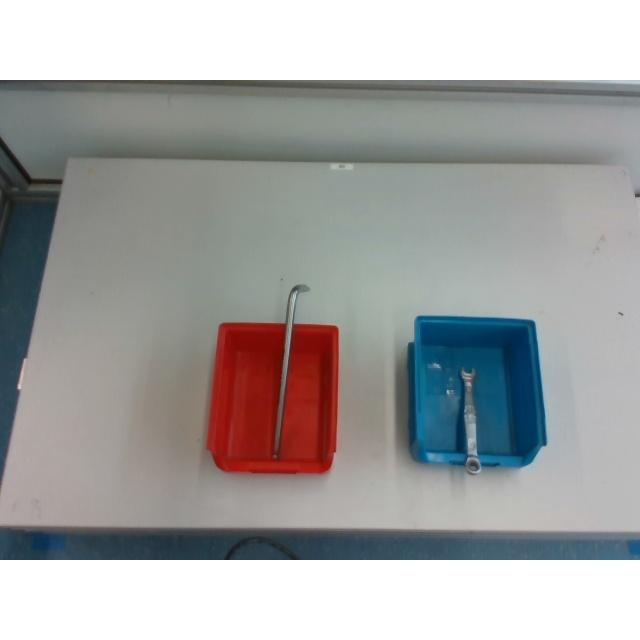AllenKey: (273, 284, 309, 460)
Wrench: (460, 368, 480, 474)
container_box_blue: (409, 316, 545, 472)
container_box_red: (206, 322, 338, 472)
